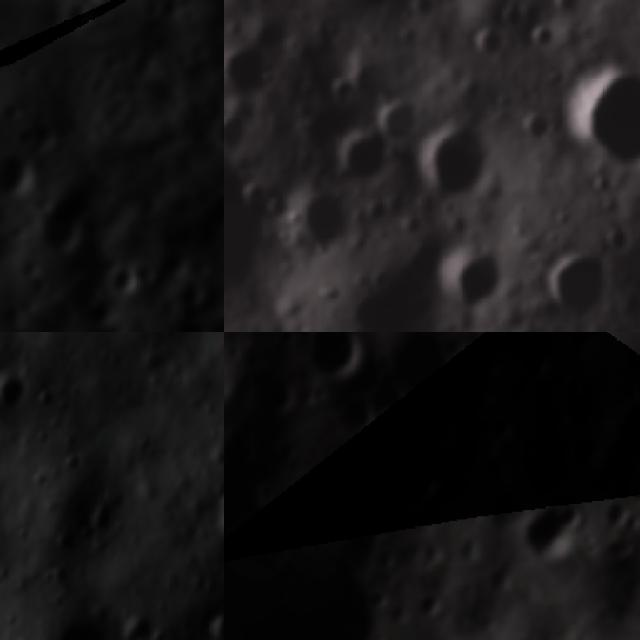crater: (559, 69, 640, 169), (511, 492, 597, 574), (224, 174, 277, 303), (419, 123, 496, 203), (288, 184, 362, 264), (432, 252, 506, 318), (42, 182, 105, 257), (546, 253, 614, 321), (341, 55, 409, 117), (294, 332, 374, 380), (297, 105, 359, 160), (332, 136, 390, 190), (224, 43, 279, 99), (604, 395, 640, 470), (327, 396, 384, 442), (370, 101, 421, 147), (462, 27, 517, 68), (224, 107, 267, 158), (510, 110, 560, 153), (403, 464, 451, 508), (520, 340, 562, 386), (0, 145, 36, 196), (597, 536, 640, 573), (413, 588, 454, 624), (364, 579, 401, 615), (530, 24, 569, 56), (0, 373, 26, 419), (618, 508, 640, 537), (552, 0, 587, 17), (213, 114, 224, 156), (632, 478, 640, 506)
